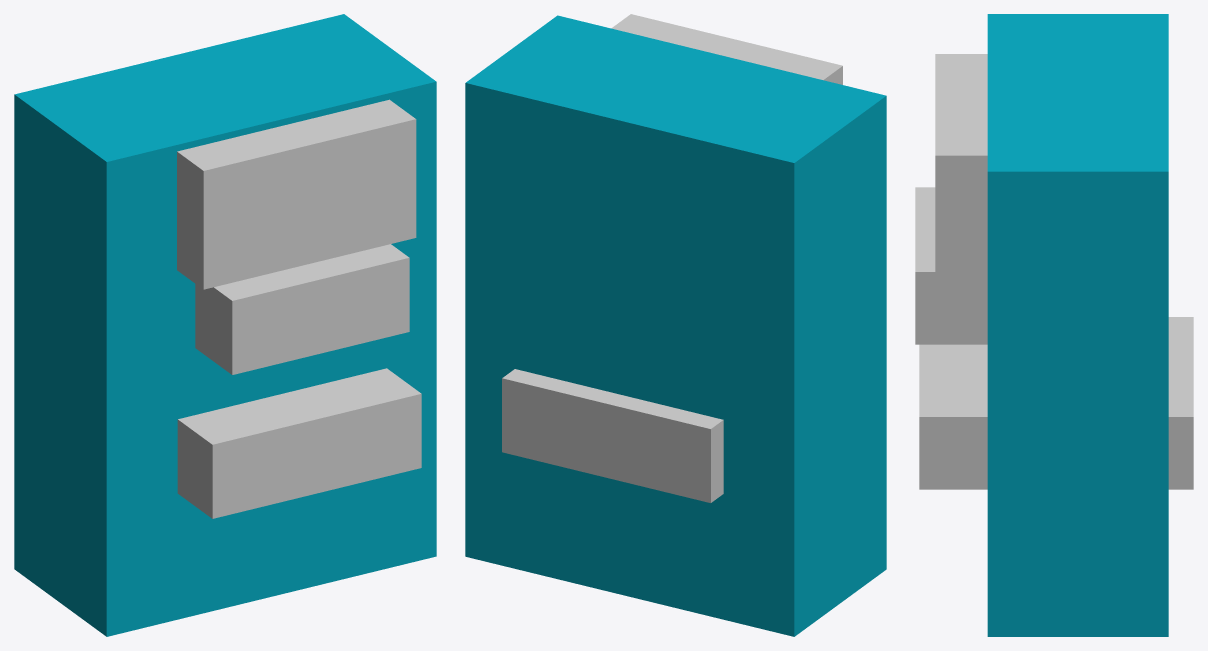
File: Smashing Wluff-Kasi.glb
The picture shows the model from 3 angles, left to right: view 1: azimuth 30°, elevation 25°; view 2: azimuth 150°, elevation 25°; view 3: azimuth 270°, elevation 25°; orthographic projection. The views are drawn at different scales.
Parts seen in each view (by area): view 1: Mesh_Mesh_head_geo.001_lambert2SG.001; view 2: Mesh_Mesh_head_geo.001_lambert2SG.001; view 3: Mesh_Mesh_head_geo.001_lambert2SG.001.
Boxes of the visible parts, left/top/right/bottom form: Mesh_Mesh_head_geo.001_lambert2SG.001: left=14, top=14, right=436, bottom=636; Mesh_Mesh_head_geo.001_lambert2SG.001: left=465, top=14, right=886, bottom=636; Mesh_Mesh_head_geo.001_lambert2SG.001: left=915, top=14, right=1193, bottom=636.
Bounding box in the file's own units: 93 × 128 × 69.4.
